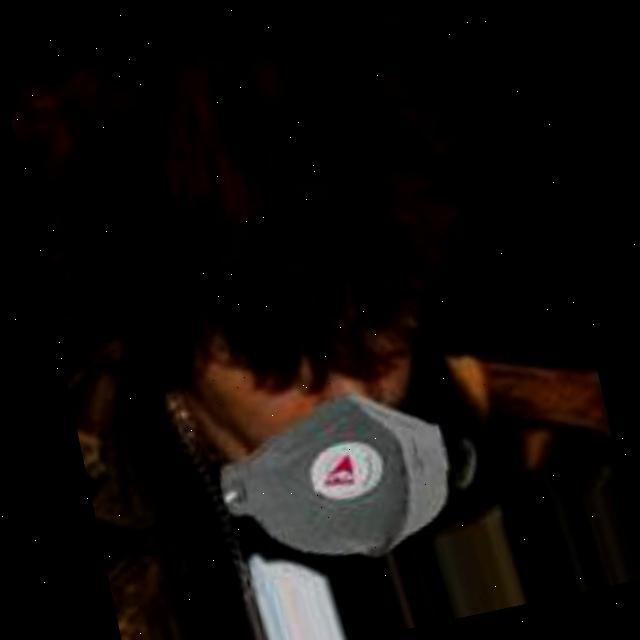suspicion: (125, 182, 518, 592)
